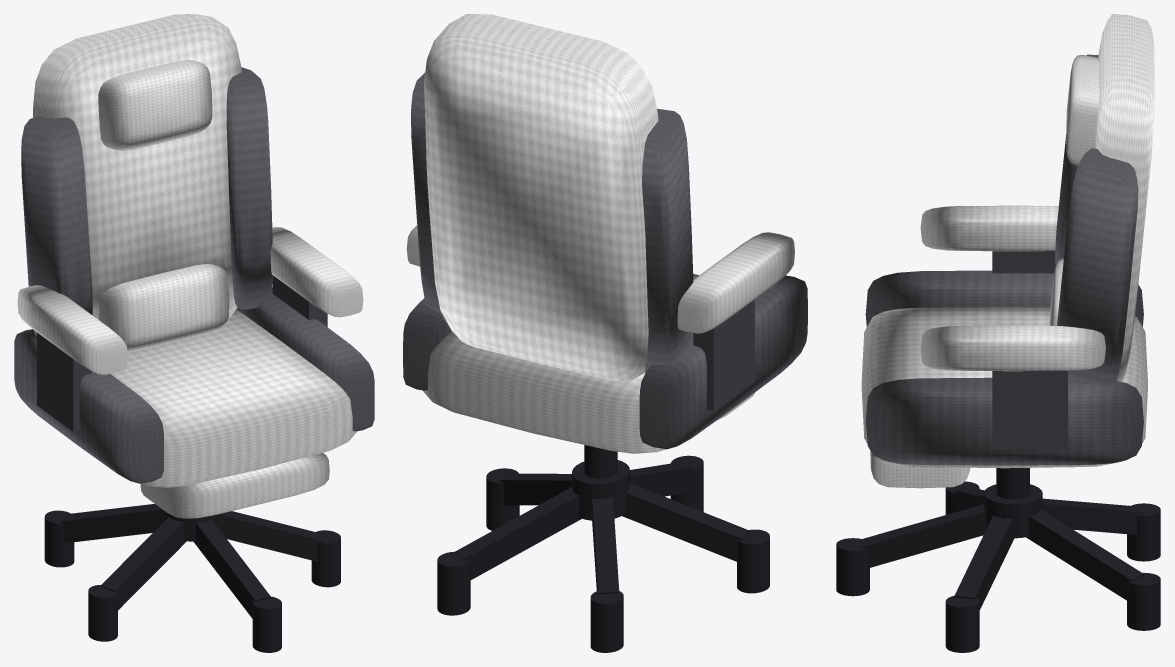
The picture shows the model from 3 angles, left to right: view 1: azimuth 30°, elevation 25°; view 2: azimuth 150°, elevation 25°; view 3: azimuth 270°, elevation 25°; orthographic projection. The views are drawn at different scales.
Visible parts, largest first — view 1: 5 backrest, 1 seat, 6 backrest_bolster_left, 7 backrest_bolster_right, 2 seat_bolster_left, 8 headrest, 9 lumbar_pillow, 4 footrest, 3 seat_bolster_right, 10 armrest_left, 11 armrest_right, 12 armrest_support_left (+9 smaller); view 2: 5 backrest, 1 seat, 2 seat_bolster_left, 6 backrest_bolster_left, 10 armrest_left, 18 base_spoke_3, 20 base_spoke_5, 12 armrest_support_left, 7 backrest_bolster_right, 3 seat_bolster_right, 19 base_spoke_4, 15 base_hub (+8 smaller); view 3: 3 seat_bolster_right, 7 backrest_bolster_right, 5 backrest, 1 seat, 11 armrest_right, 2 seat_bolster_left, 10 armrest_left, 13 armrest_support_right, 16 base_spoke_1, 18 base_spoke_3, 8 headrest, 17 base_spoke_2 (+12 smaller).
Boxes of the visible parts, x1,y1,x2,y2 form: 5 backrest: (33, 14, 241, 319); 1 seat: (110, 309, 356, 487); 6 backrest_bolster_left: (21, 116, 92, 335); 7 backrest_bolster_right: (226, 67, 273, 309); 2 seat_bolster_left: (14, 329, 163, 483); 8 headrest: (98, 60, 212, 150); 9 lumbar_pillow: (99, 264, 229, 351); 4 footrest: (140, 453, 329, 518); 3 seat_bolster_right: (236, 287, 374, 431); 10 armrest_left: (17, 285, 127, 374); 11 armrest_right: (270, 227, 363, 317); 12 armrest_support_left: (37, 332, 91, 431); 5 backrest: (424, 14, 658, 382); 1 seat: (422, 273, 698, 453); 2 seat_bolster_left: (639, 275, 807, 449); 6 backrest_bolster_left: (642, 108, 693, 372); 10 armrest_left: (677, 232, 794, 333); 18 base_spoke_3: (455, 487, 581, 580); 20 base_spoke_5: (622, 483, 748, 561); 12 armrest_support_left: (693, 299, 754, 410); 7 backrest_bolster_right: (411, 72, 447, 323); 3 seat_bolster_right: (403, 298, 451, 390); 19 base_spoke_4: (592, 497, 619, 594); 15 base_hub: (572, 460, 629, 520); 3 seat_bolster_right: (865, 377, 1143, 465); 7 backrest_bolster_right: (1057, 148, 1138, 386); 5 backrest: (1093, 14, 1154, 382); 1 seat: (861, 307, 1147, 468); 11 armrest_right: (920, 325, 1105, 371); 2 seat_bolster_left: (865, 270, 1143, 326); 10 armrest_left: (920, 205, 1058, 251); 13 armrest_support_right: (992, 371, 1067, 449); 16 base_spoke_1: (861, 504, 985, 568); 18 base_spoke_3: (1026, 510, 1143, 600); 8 headrest: (1066, 55, 1099, 165); 17 base_spoke_2: (954, 515, 1014, 609).
Bounding box in the file's own units: 0.54 × 1 × 0.54.
5 materials, 2 textured.
